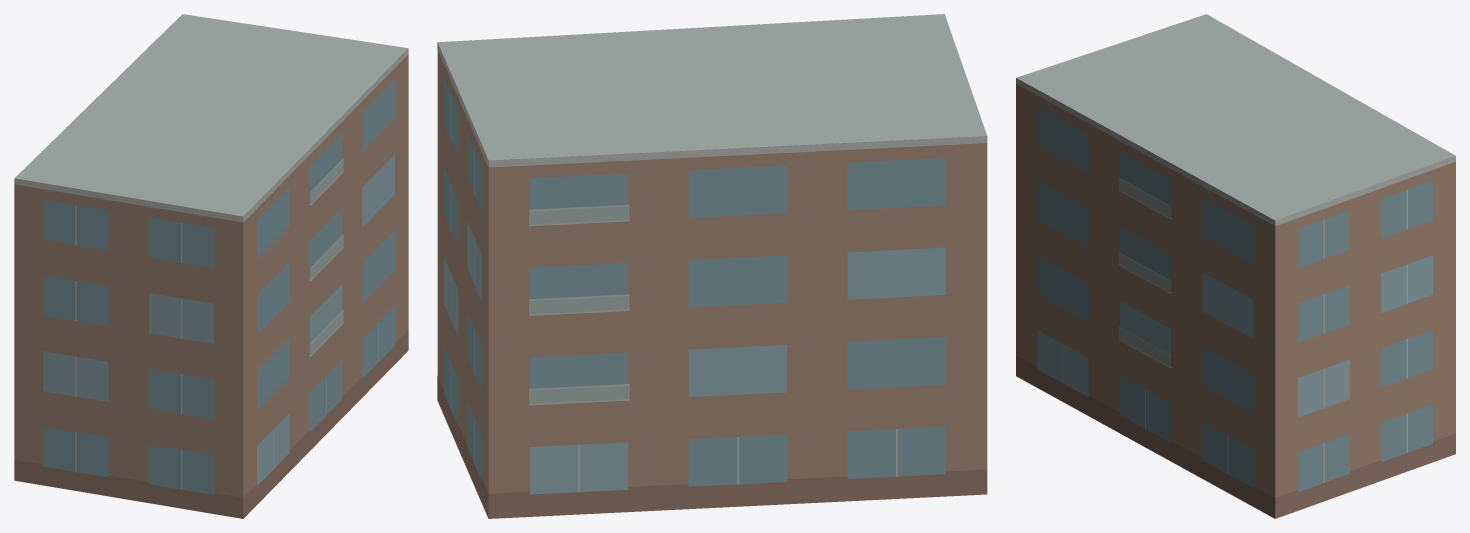
The model's file is survey-upis-32978285.glb.
3 views of the same model, side by side, from view 1: azimuth 30°, elevation 25°; view 2: azimuth 150°, elevation 25°; view 3: azimuth 270°, elevation 25° (orthographic). The views are drawn at different scales.
Visible parts, largest first — view 1: survey-upis-32978285.tmp; view 2: survey-upis-32978285.tmp; view 3: survey-upis-32978285.tmp.
Part boxes in pixels (<box>): survey-upis-32978285.tmp: <box>14,14,408,518</box>; survey-upis-32978285.tmp: <box>437,14,987,518</box>; survey-upis-32978285.tmp: <box>1016,14,1455,518</box>.
Bounding box in the file's own units: 18.42 × 12.4 × 16.57.
